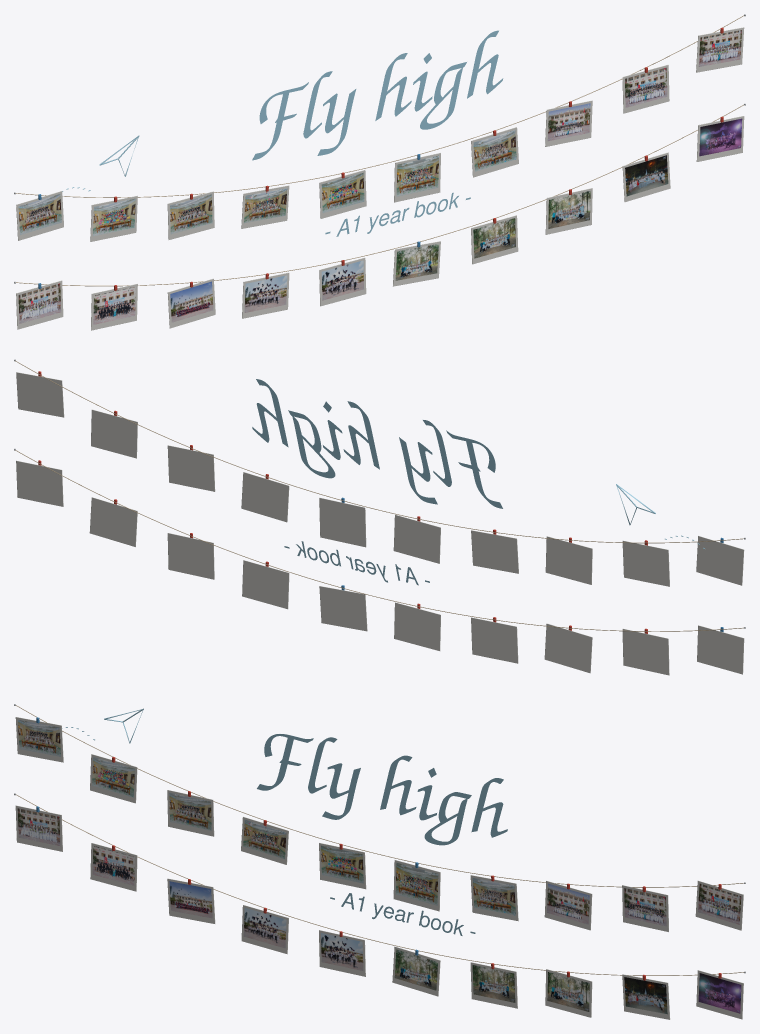
Rendered from board_memory_12a1.glb.
3 views of the same model, one above another, from view 1: azimuth 30°, elevation 25°; view 2: azimuth 150°, elevation 25°; view 3: azimuth 330°, elevation 25° (orthographic).
Visible parts, largest first — view 1: KA12A1_BoardMemory_Title, KA12A1_BoardMemory_Photo_06, KA12A1_BoardMemory_Photo_07, KA12A1_BoardMemory_Photo_08, KA12A1_BoardMemory_Photo_09, KA12A1_BoardMemory_Photo_12, KA12A1_BoardMemory_Photo_18, KA12A1_BoardMemory_Photo_03, KA12A1_BoardMemory_Photo_16, KA12A1_BoardMemory_Photo_20, KA12A1_BoardMemory_Photo_13, KA12A1_BoardMemory_Photo_02 (+32 smaller); view 2: KA12A1_BoardMemory_Title, KA12A1_BoardMemory_Paper_06, KA12A1_BoardMemory_Paper_07, KA12A1_BoardMemory_Paper_08, KA12A1_BoardMemory_Paper_09, KA12A1_BoardMemory_Paper_20, KA12A1_BoardMemory_Paper_10, KA12A1_BoardMemory_Paper_15, KA12A1_BoardMemory_Paper_03, KA12A1_BoardMemory_Paper_12, KA12A1_BoardMemory_Paper_13, KA12A1_BoardMemory_Paper_17 (+12 smaller); view 3: KA12A1_BoardMemory_Title, KA12A1_BoardMemory_Photo_06, KA12A1_BoardMemory_Photo_07, KA12A1_BoardMemory_Photo_09, KA12A1_BoardMemory_Photo_08, KA12A1_BoardMemory_Photo_03, KA12A1_BoardMemory_Photo_18, KA12A1_BoardMemory_Photo_19, KA12A1_BoardMemory_Photo_13, KA12A1_BoardMemory_Photo_20, KA12A1_BoardMemory_Photo_14, KA12A1_BoardMemory_Photo_05 (+32 smaller).
Part boxes in pixels (<box>): KA12A1_BoardMemory_Title: <box>252,30,503,160</box>; KA12A1_BoardMemory_Photo_06: <box>396,155,438,196</box>; KA12A1_BoardMemory_Photo_07: <box>473,130,516,171</box>; KA12A1_BoardMemory_Photo_08: <box>547,103,590,141</box>; KA12A1_BoardMemory_Photo_09: <box>625,67,667,107</box>; KA12A1_BoardMemory_Photo_12: <box>93,286,135,324</box>; KA12A1_BoardMemory_Photo_18: <box>548,191,590,228</box>; KA12A1_BoardMemory_Photo_03: <box>170,194,212,234</box>; KA12A1_BoardMemory_Photo_16: <box>395,244,438,280</box>; KA12A1_BoardMemory_Photo_20: <box>699,118,742,156</box>; KA12A1_BoardMemory_Photo_13: <box>170,281,213,322</box>; KA12A1_BoardMemory_Photo_02: <box>93,198,135,236</box>; KA12A1_BoardMemory_Title: <box>252,379,502,508</box>; KA12A1_BoardMemory_Paper_06: <box>319,497,366,547</box>; KA12A1_BoardMemory_Paper_07: <box>241,472,289,522</box>; KA12A1_BoardMemory_Paper_08: <box>167,445,215,491</box>; KA12A1_BoardMemory_Paper_09: <box>91,409,137,458</box>; KA12A1_BoardMemory_Paper_20: <box>16,460,63,506</box>; KA12A1_BoardMemory_Paper_10: <box>16,372,64,417</box>; KA12A1_BoardMemory_Paper_15: <box>394,602,440,650</box>; KA12A1_BoardMemory_Paper_03: <box>545,536,592,584</box>; KA12A1_BoardMemory_Paper_12: <box>622,628,669,675</box>; KA12A1_BoardMemory_Paper_13: <box>544,623,592,673</box>; KA12A1_BoardMemory_Paper_17: <box>242,560,289,609</box>; KA12A1_BoardMemory_Title: <box>257,734,507,845</box>; KA12A1_BoardMemory_Photo_06: <box>395,863,438,905</box>; KA12A1_BoardMemory_Photo_07: <box>472,878,515,915</box>; KA12A1_BoardMemory_Photo_09: <box>624,888,666,926</box>; KA12A1_BoardMemory_Photo_08: <box>547,883,589,924</box>; KA12A1_BoardMemory_Photo_03: <box>169,792,211,830</box>; KA12A1_BoardMemory_Photo_18: <box>547,972,589,1011</box>; KA12A1_BoardMemory_Photo_19: <box>624,977,667,1014</box>; KA12A1_BoardMemory_Photo_13: <box>169,881,212,918</box>; KA12A1_BoardMemory_Photo_20: <box>698,973,741,1013</box>; KA12A1_BoardMemory_Photo_14: <box>243,908,286,948</box>; KA12A1_BoardMemory_Photo_05: <box>321,845,363,883</box>.
Size of the model in its own units: 4.29 by 1.29 by 0.042.
26 materials, 20 textured.
